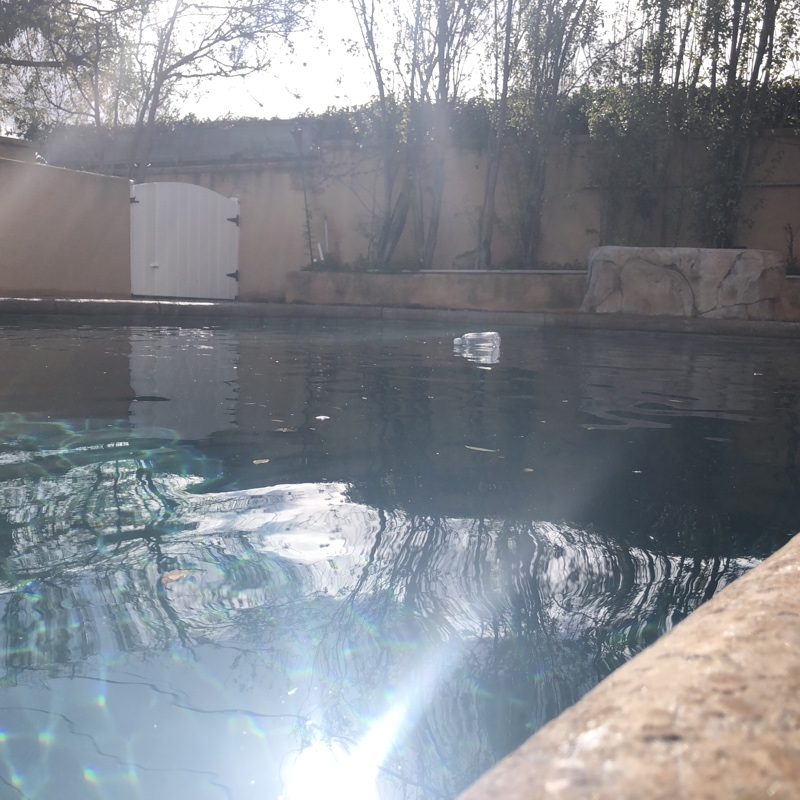Plastic Bottle: (449, 329, 501, 347)
